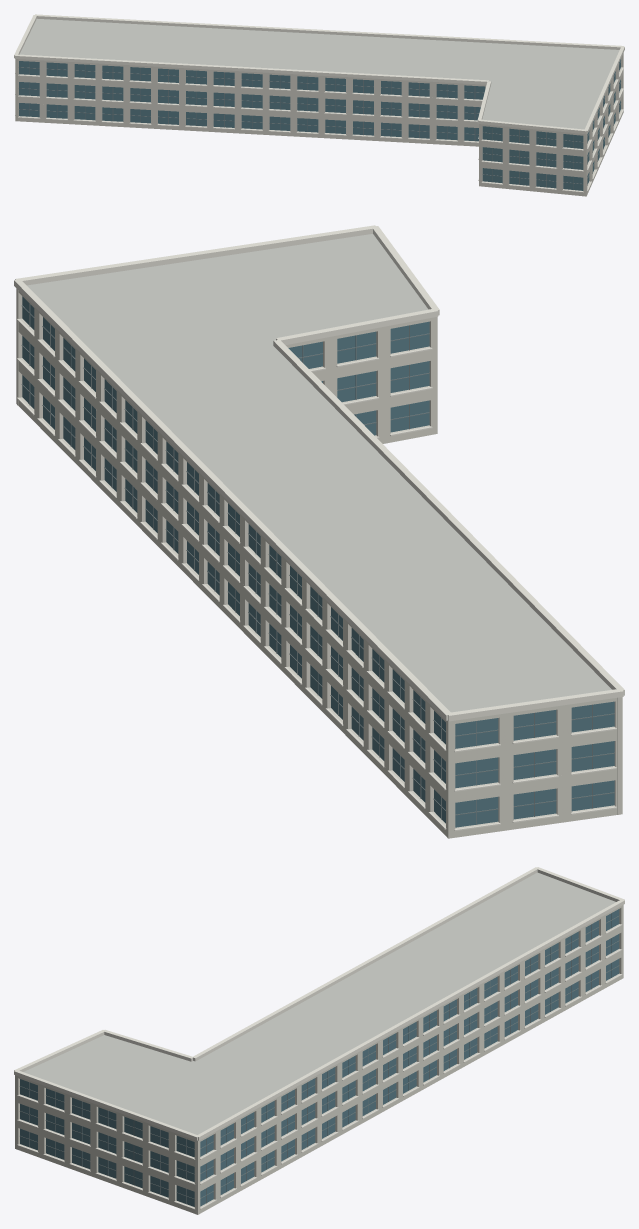
3 renders of one model, top to bottom at view 1: azimuth 30°, elevation 25°; view 2: azimuth 150°, elevation 25°; view 3: azimuth 270°, elevation 25°, orthographic. The views are drawn at different scales.
Parts seen in each view (by area): view 1: roof, wall, glass, trim, metal; view 2: roof, wall, glass, trim, metal; view 3: roof, wall, glass, trim, metal.
Part boxes in pixels (x1,y1,x2,y2): roof: (19,18,619,129); wall: (15,53,623,196); glass: (19,59,620,190); trim: (14,14,624,192); metal: (19,60,621,189); roof: (27,234,611,712); wall: (16,288,622,838); glass: (22,296,614,827); trim: (14,225,624,831); metal: (21,303,614,824); roof: (23,872,615,1134); wall: (15,905,623,1214); glass: (20,909,619,1206); trim: (14,867,624,1209); metal: (19,913,619,1204).
Bounding box in the file's own units: 72.34 × 9.74 × 69.08.
